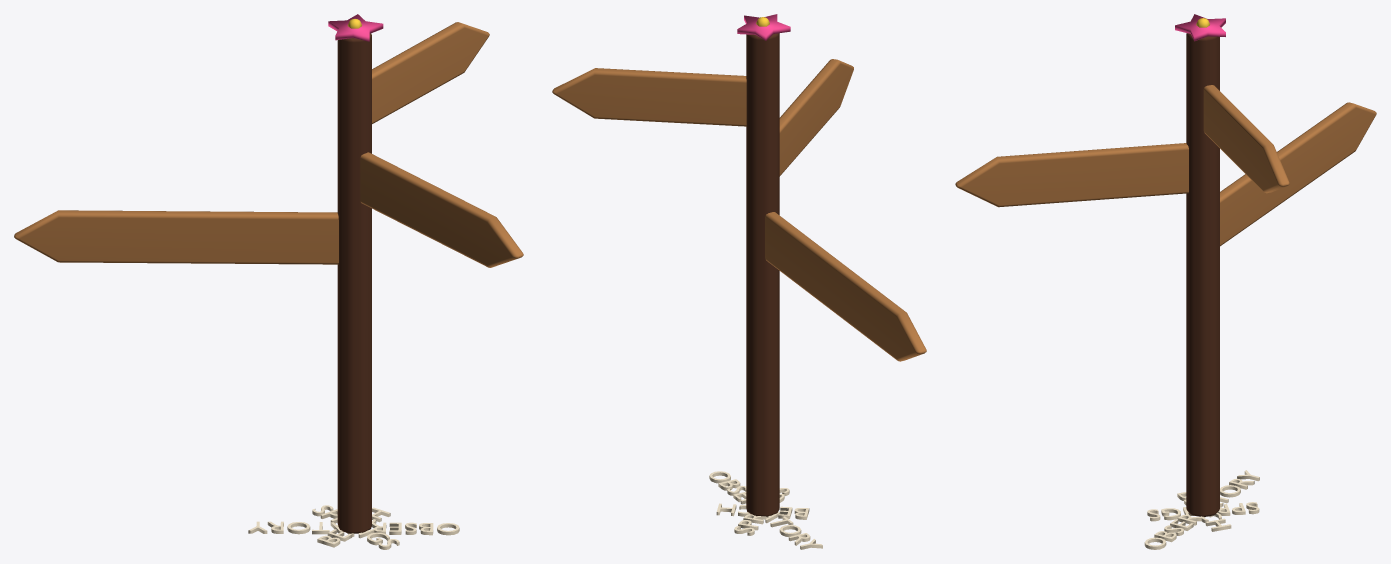
The model's file is lava_signpost.glb.
The picture shows the model from 3 angles, left to right: view 1: azimuth 30°, elevation 25°; view 2: azimuth 150°, elevation 25°; view 3: azimuth 270°, elevation 25°; orthographic projection. The views are drawn at different scales.
Parts seen in each view (by area): view 1: Signpost; view 2: Signpost; view 3: Signpost.
Part boxes in pixels (x1,y1,x2,y2): Signpost: (14, 14, 523, 549); Signpost: (552, 14, 926, 549); Signpost: (955, 14, 1376, 549).
Size of the model in its own units: 2.72 by 3.09 by 2.39.
